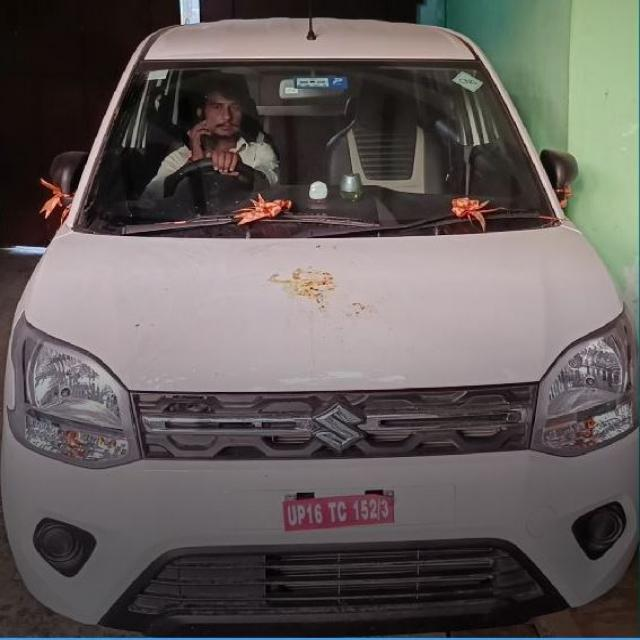Cellphone_texting: (3, 250, 84, 344)
